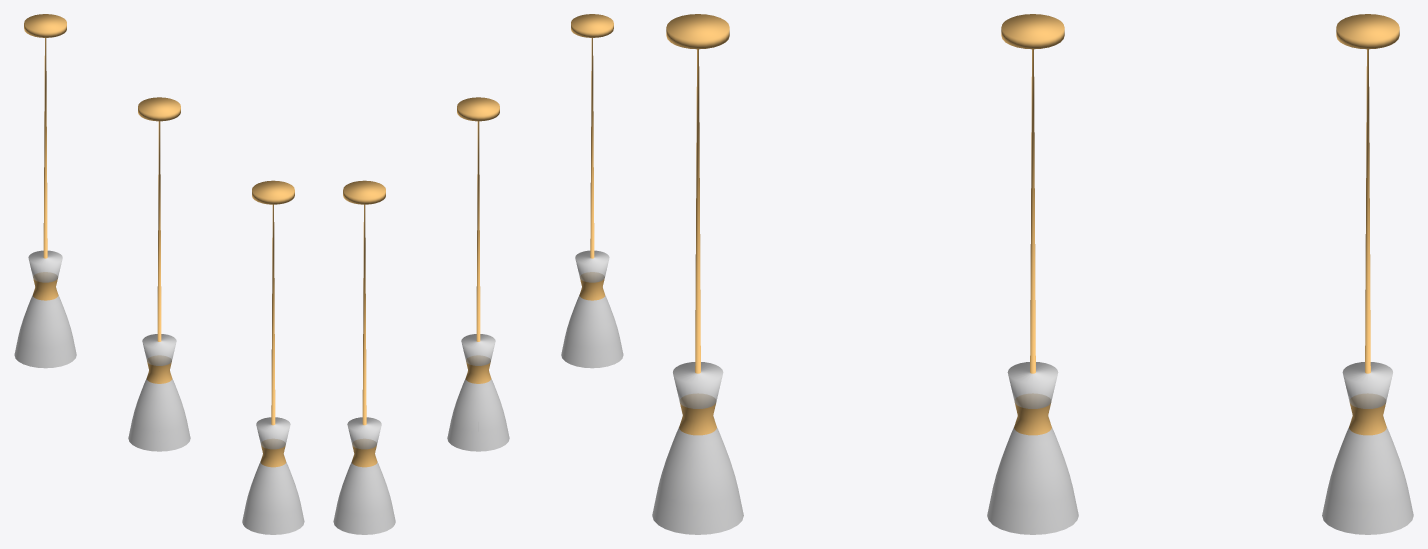
File: Light_HeathWhite_Brass.glb
The picture shows the model from 3 angles, left to right: view 1: azimuth 30°, elevation 25°; view 2: azimuth 150°, elevation 25°; view 3: azimuth 270°, elevation 25°; orthographic projection. The views are drawn at different scales.
Parts seen in each view (by area): view 1: HeathWhite/Brass; view 2: HeathWhite/Brass; view 3: HeathWhite/Brass.
Part boxes in pixels (x1,y1,x2,y2): HeathWhite/Brass: (14,14,304,534); HeathWhite/Brass: (333,14,623,534); HeathWhite/Brass: (652,14,1413,534).
Bounding box in the file's own units: 0.275 × 1.61 × 2.28.
